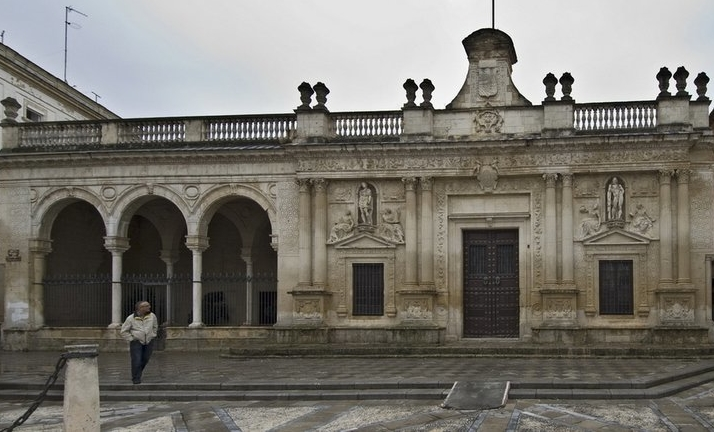arco-medio-punto: (109, 182, 195, 259), (193, 181, 277, 258), (29, 184, 114, 258)
fronton: (578, 228, 653, 246), (331, 232, 399, 250)
vano-adintelado: (443, 211, 533, 344), (584, 244, 650, 320), (332, 248, 397, 320)
